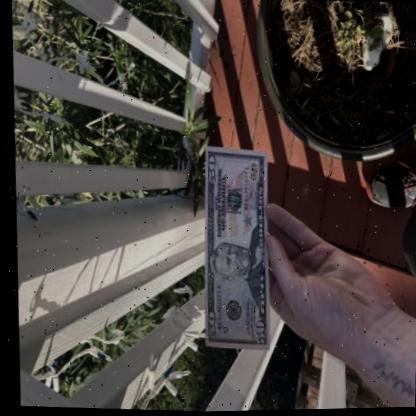dollar_front: (188, 145, 276, 351)
